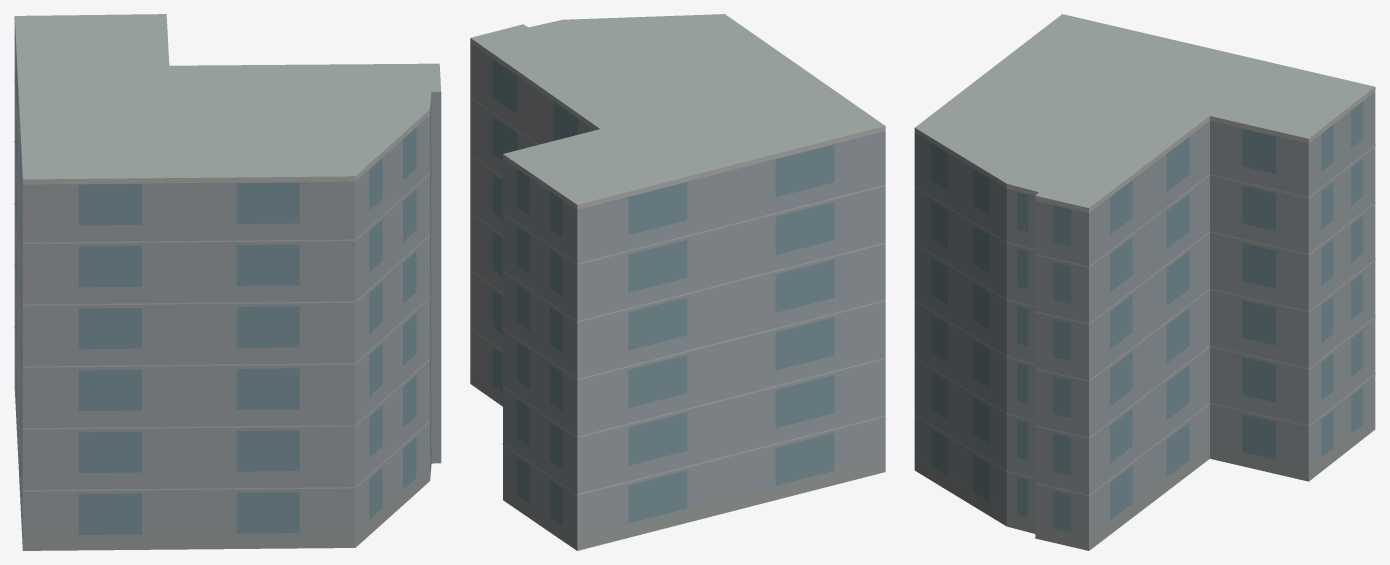
The model's file is survey-upis-32985308.glb.
The picture shows the model from 3 angles, left to right: view 1: azimuth 30°, elevation 25°; view 2: azimuth 150°, elevation 25°; view 3: azimuth 270°, elevation 25°; orthographic projection. The views are drawn at different scales.
Visible parts, largest first — view 1: survey-upis-32985308.tmp; view 2: survey-upis-32985308.tmp; view 3: survey-upis-32985308.tmp.
Boxes of the visible parts, x1,y1,x2,y2 form: survey-upis-32985308.tmp: [14, 14, 441, 550]; survey-upis-32985308.tmp: [470, 14, 885, 550]; survey-upis-32985308.tmp: [914, 14, 1375, 550].
Bounding box in the file's own units: 20.92 × 17.2 × 20.97.
